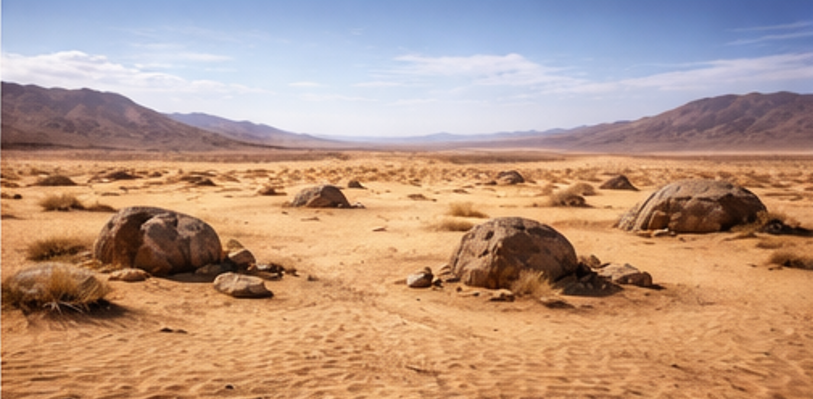rocks: (452, 217, 577, 287), (93, 207, 220, 274), (618, 180, 765, 231), (213, 271, 271, 296), (289, 183, 349, 205), (598, 263, 652, 285), (405, 266, 433, 287), (600, 175, 637, 189), (497, 170, 524, 183)
